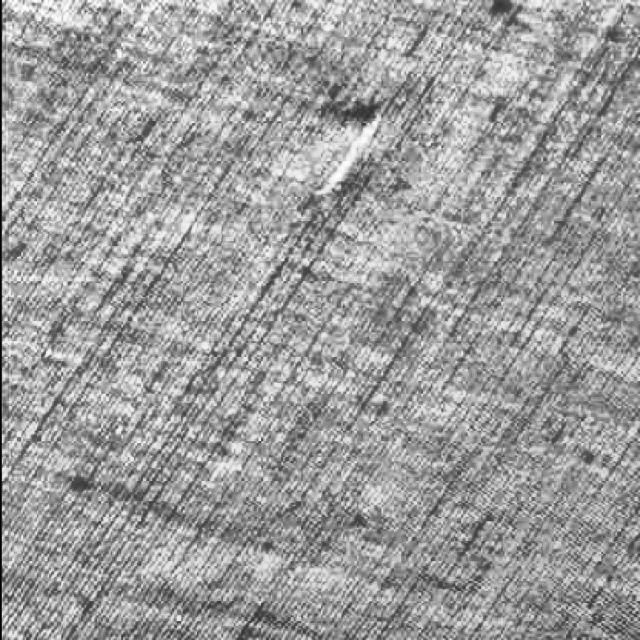thread_error: (300, 91, 404, 210)
